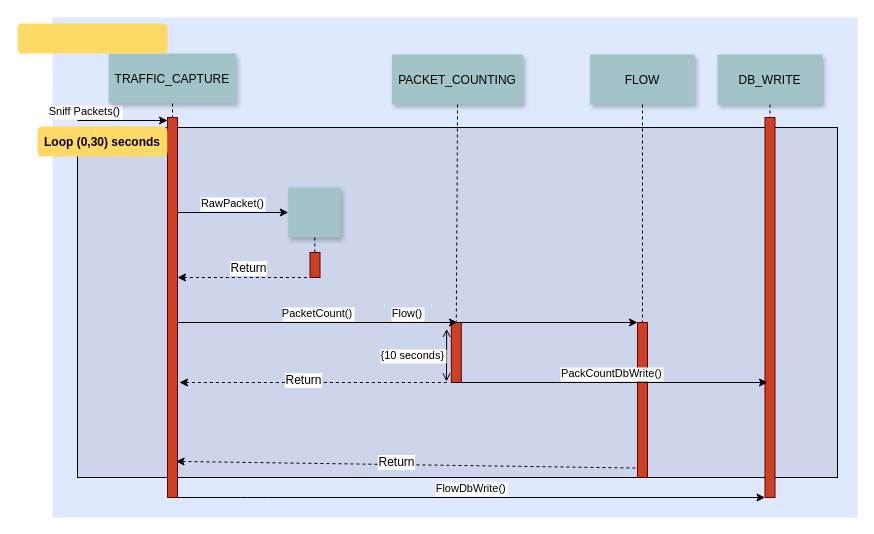
This 874x534 diagram has some shape labels left out. Here are the shapes that lost their labels. From the top down, the centre of each, then its label:
point 92,38: האזנה
point 315,213: Parsing RawData
